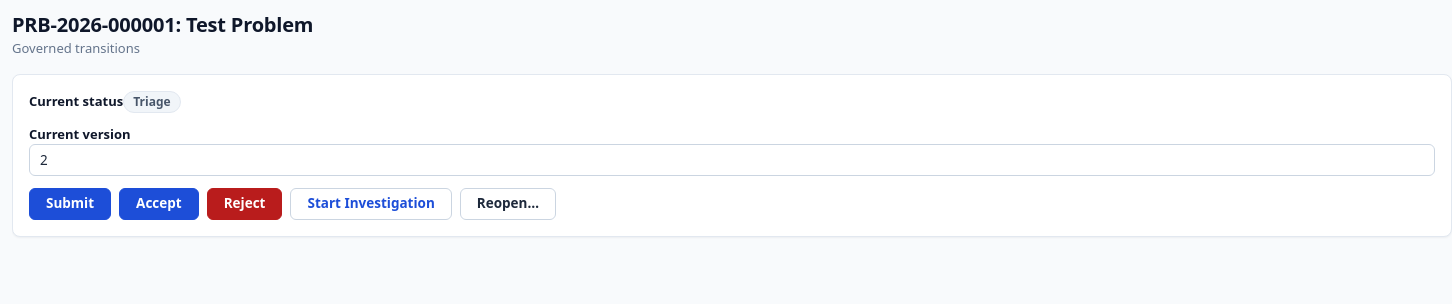
Test: Governed Transitions › surfaces a stale-version rejection without pretending it succeeded
The image size is (1452, 304).
Click the button "Submit" at (70, 204), box [29,188,111,220]
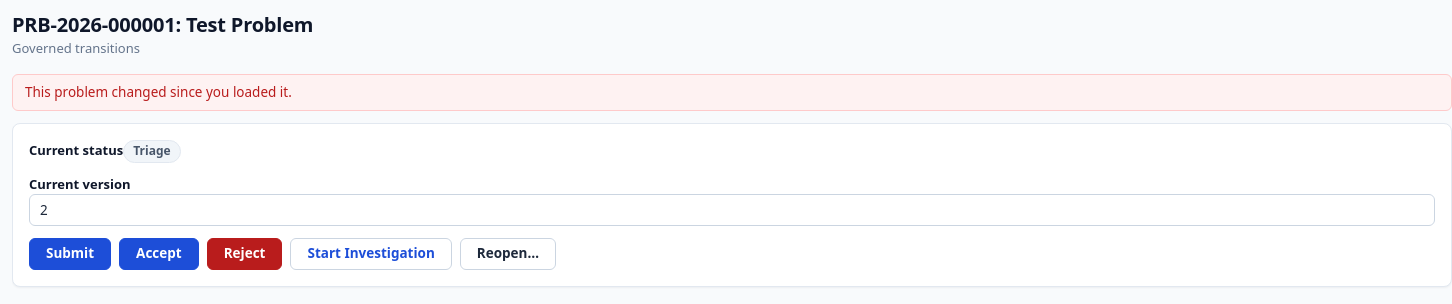
Now the text "This problem changed since you loaded it." is shown, box [12,74,1451,111]
